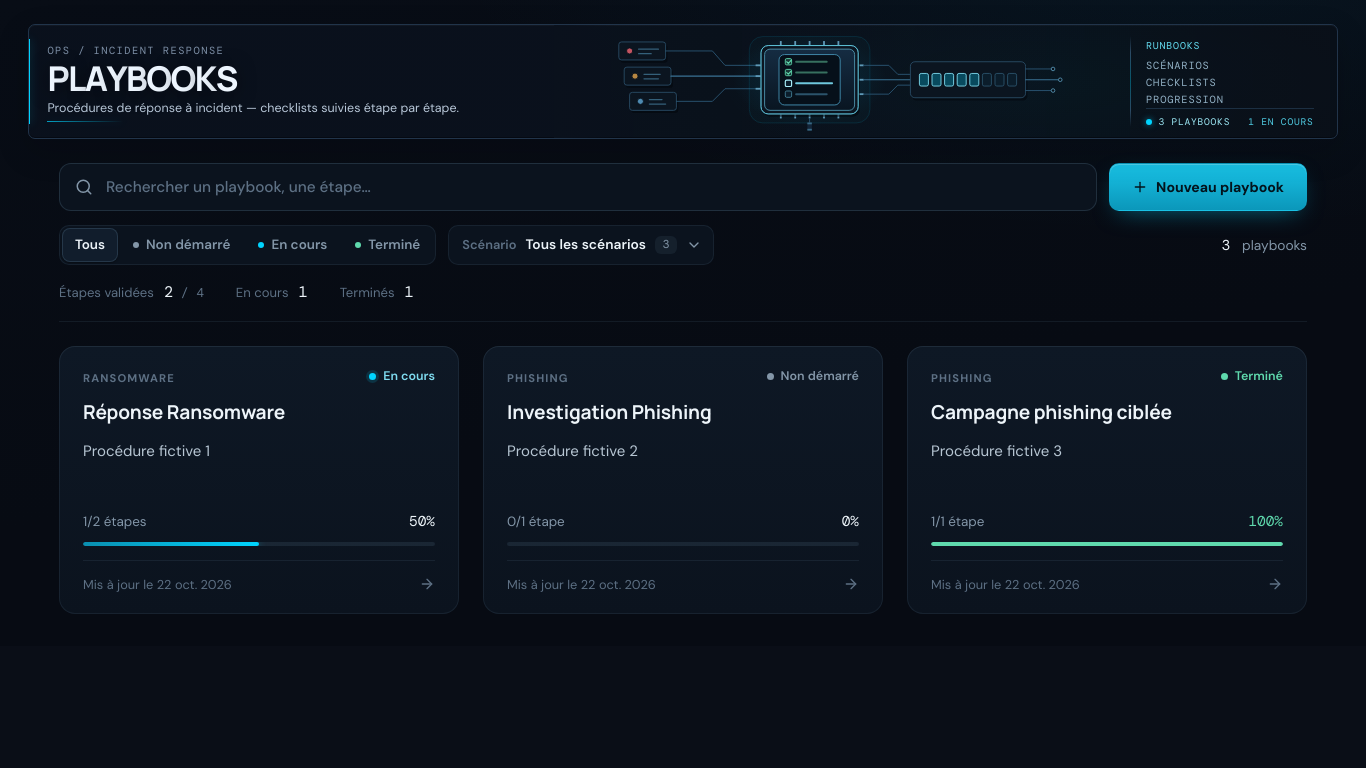
Test case: Playbooks 2026 — liste › cherche un scénario dans la liste déroulante, au clavier, avec compteurs
Expected: the link "Réponse Ransomware" is shown, [83, 399, 285, 425]
Click the button with aria-label "Scénario : Tous les scénarios" at (581,245), box [448, 225, 714, 265]
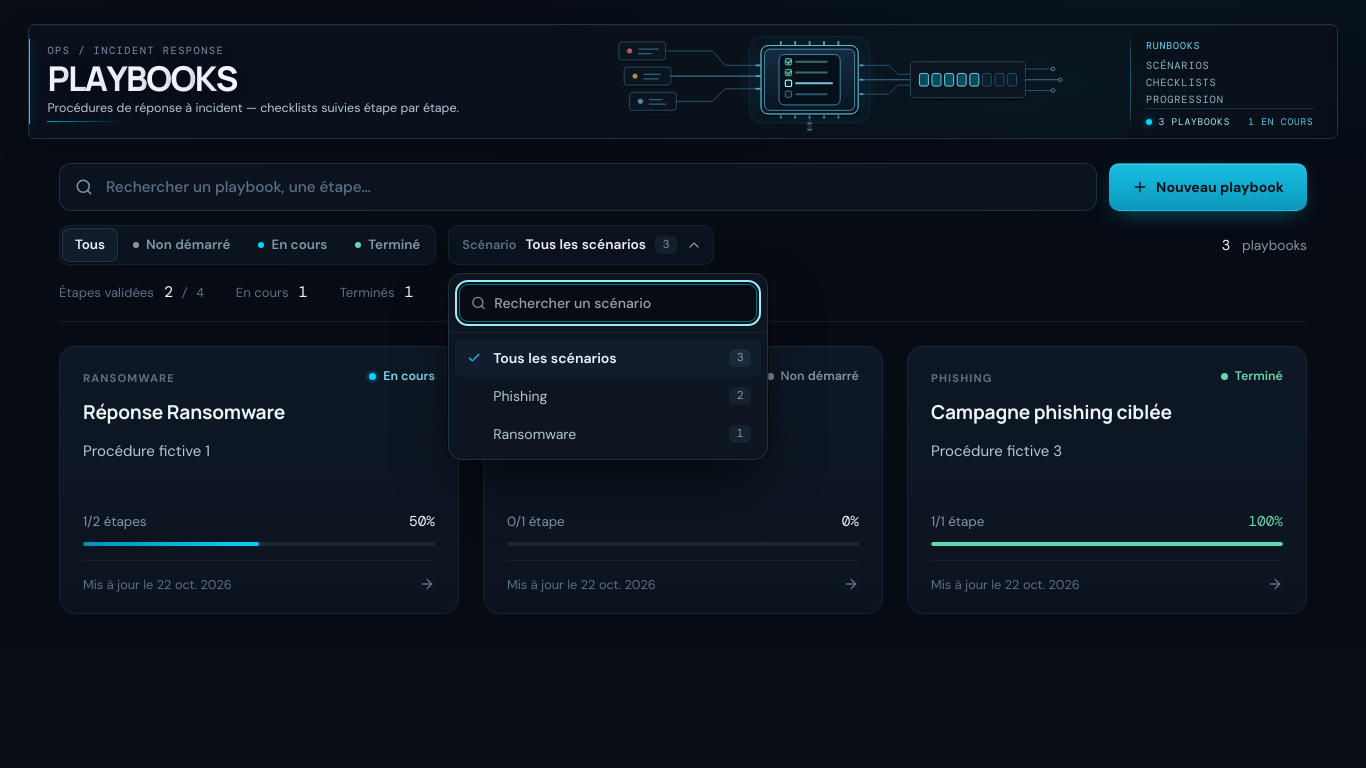
Result: the options read "Tous les scénarios3", "Phishing2", "Ransomware1", in this order at [455, 339, 761, 377]; [493, 387, 751, 405]; [493, 425, 751, 443]
Type "ranso" into the dropdown named "Filtrer les scénarios" at (608,303), box [459, 284, 757, 322]
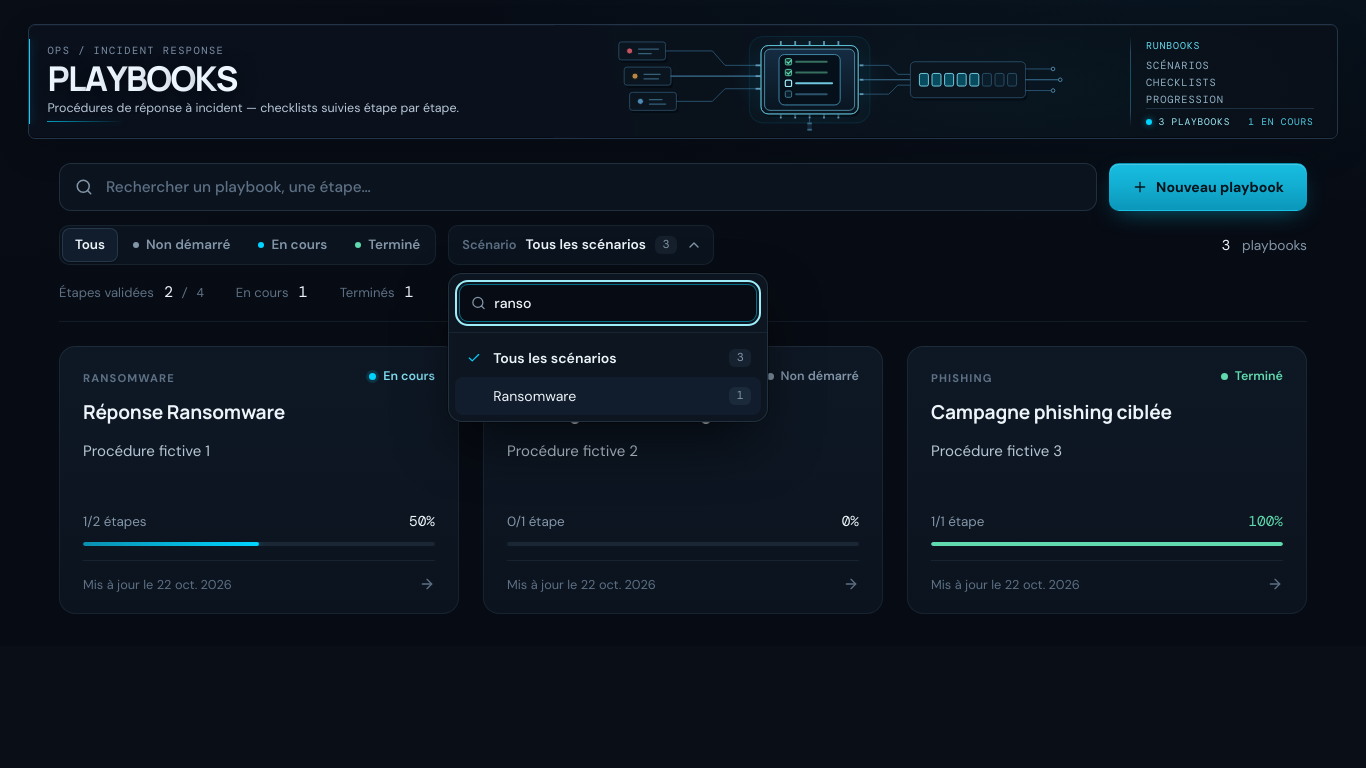
Result: the number of options is 2 at [467, 349, 751, 367]; [455, 377, 761, 415]
Press Enter in the dropdown named "Filtrer les scénarios", box [459, 284, 757, 322]
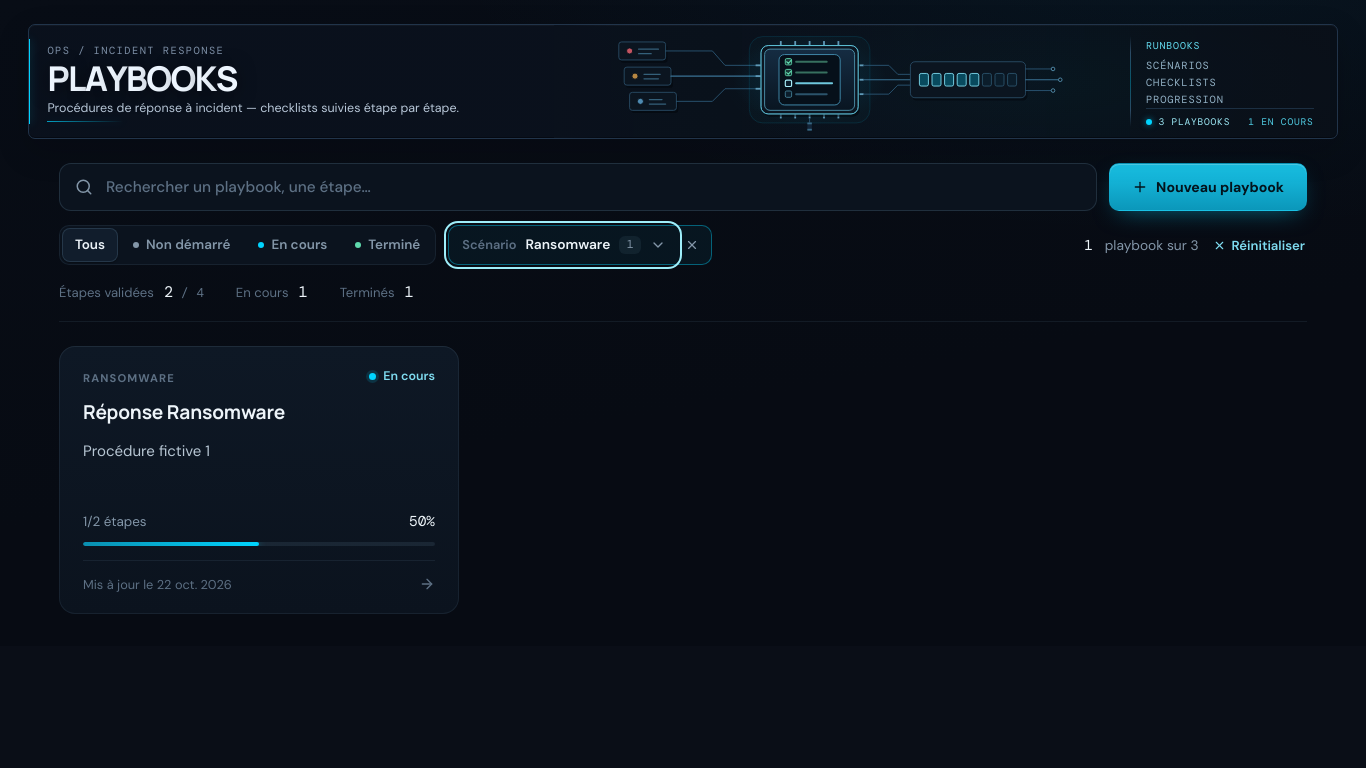
Result: the number of list items is 1 at [59, 346, 459, 614]
Result: the button with aria-label "Scénario : Ransomware" is shown
Click the button with aria-label "Scénario : Ransomware" at (563,245), box [448, 225, 678, 265]
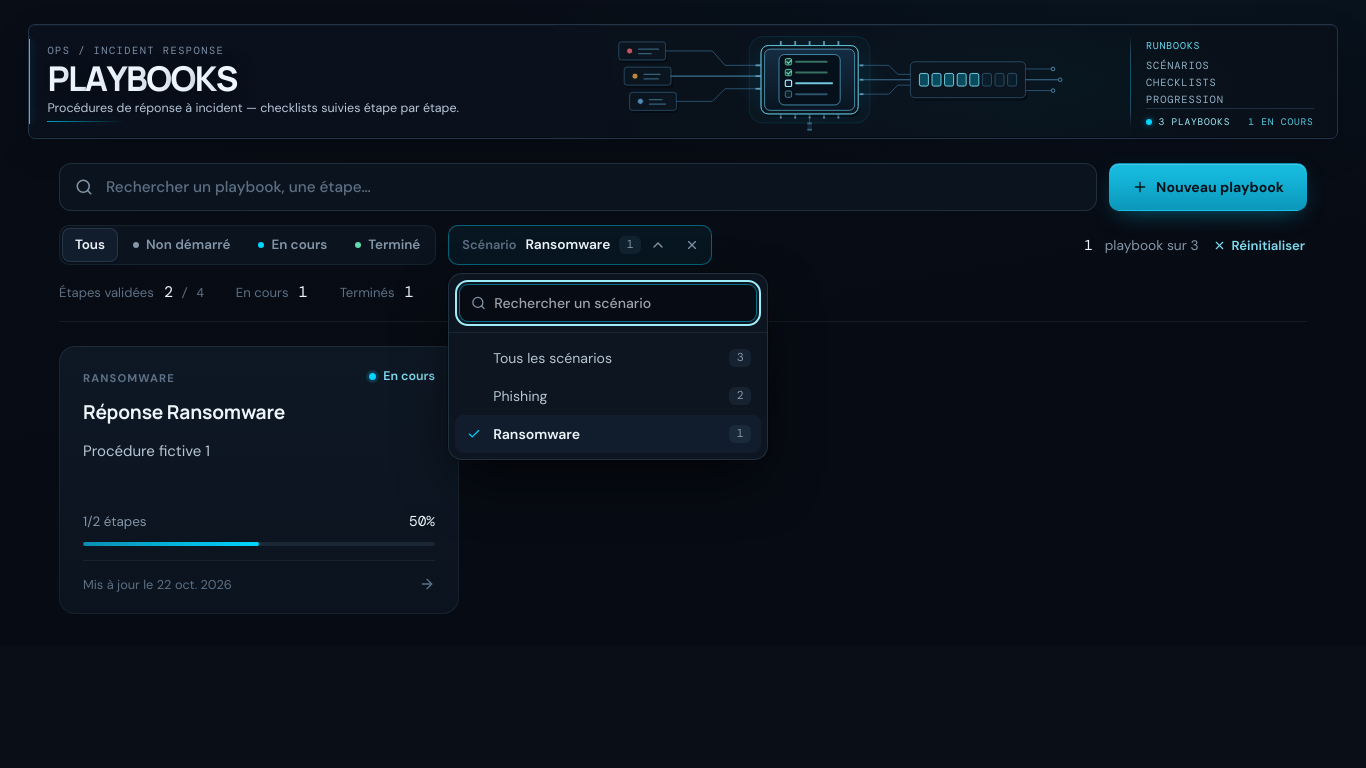
Press Escape in the dropdown, box [459, 284, 757, 322]
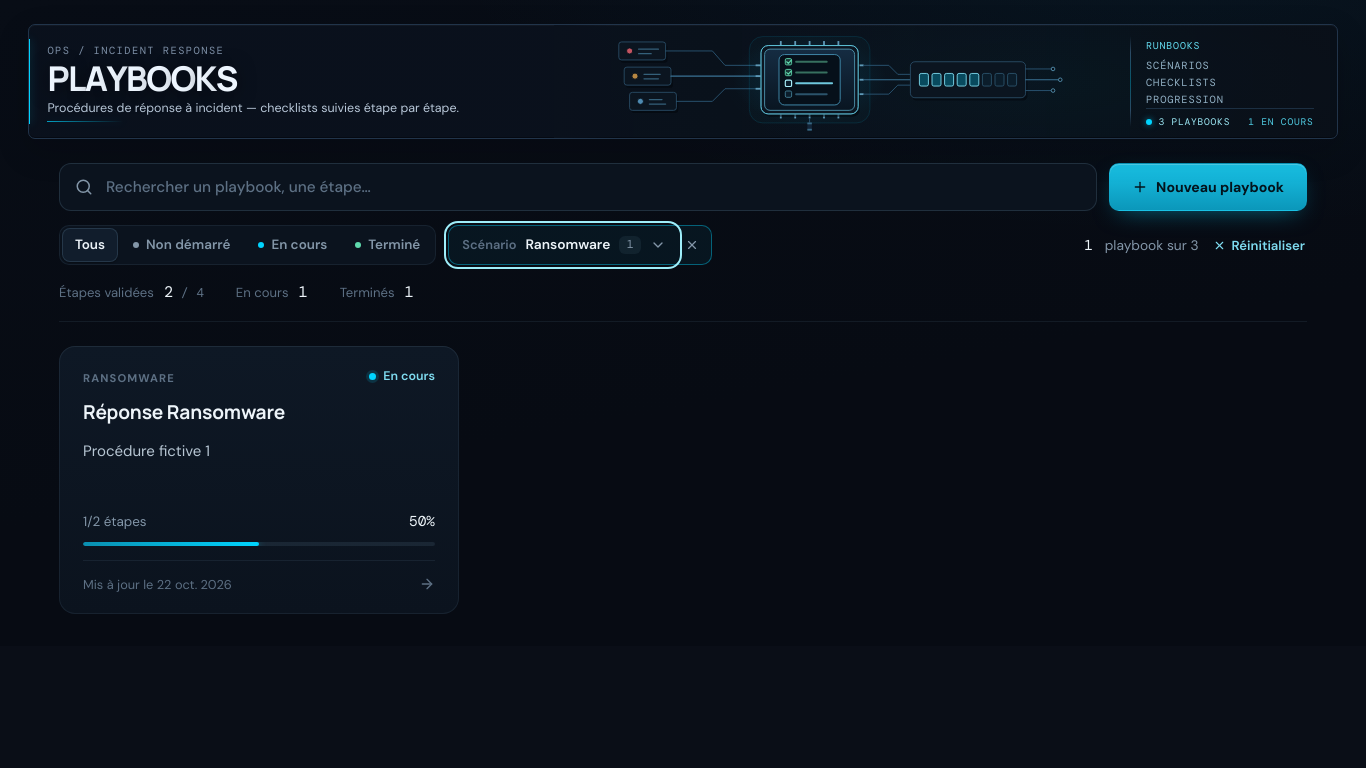
Result: the number of list items is 1 at [59, 346, 459, 614]
Result: the list "Tous les scénarios 3 Phishing 2 Ransomware 1" is gone
